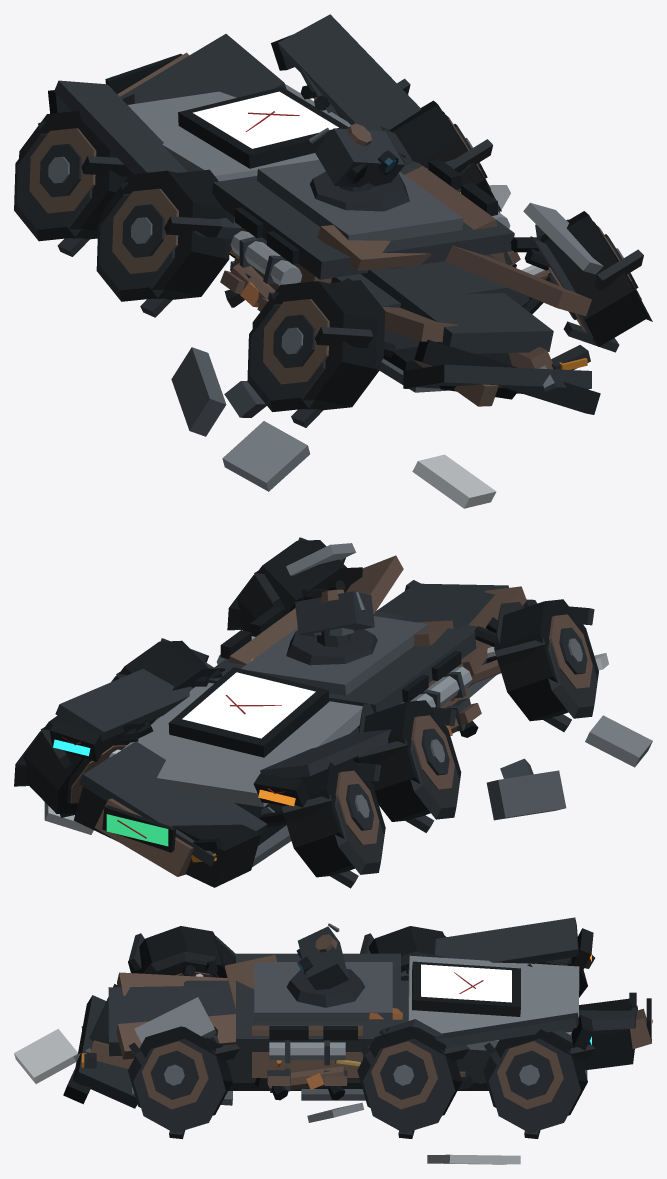
File: r47x_recon_rover_d3_lod1.meshopt.glb
The picture shows the model from 3 angles, top to bottom: view 1: azimuth 30°, elevation 25°; view 2: azimuth 150°, elevation 25°; view 3: azimuth 270°, elevation 25°; orthographic projection. The views are drawn at different scales.
Visible parts, largest first — view 1: CHASSIS_ARMOR_BODY, ZONE_FRONT_BUMPER, WHEEL_FL, WHEEL_ML, ZONE_FLANK_POS_X, WHEEL_RL, ZONE_FLANK_NEG_X, WHEEL_FR, ZONE_REAR_PANEL, WHEEL_MR, DISPLAY_FDAI_TELEMETRY_PANEL, SENSOR_MAST_HEAD (+5 smaller); view 2: CHASSIS_ARMOR_BODY, ZONE_REAR_PANEL, WHEEL_FL, WHEEL_ML, WHEEL_RL, ZONE_FLANK_POS_X, ZONE_FRONT_BUMPER, ZONE_FLANK_NEG_X, WHEEL_FR, DISPLAY_FDAI_TELEMETRY_PANEL, WHEEL_RR, SENSOR_MAST_HEAD (+7 smaller); view 3: CHASSIS_ARMOR_BODY, ZONE_FRONT_BUMPER, WHEEL_MR, WHEEL_FR, ZONE_FLANK_POS_X, WHEEL_RR, ZONE_FLANK_NEG_X, WHEEL_FL, ZONE_REAR_PANEL, DISPLAY_FDAI_TELEMETRY_PANEL, SENSOR_MAST_HEAD, DEBRIS_FRONT_BEAK (+6 smaller).
Boxes of the visible parts, x1,y1,x2,y2 form: CHASSIS_ARMOR_BODY: [128, 84, 529, 370]; ZONE_FRONT_BUMPER: [361, 202, 603, 414]; WHEEL_FL: [247, 280, 385, 427]; WHEEL_ML: [96, 169, 233, 317]; ZONE_FLANK_POS_X: [271, 14, 510, 263]; WHEEL_RL: [14, 109, 132, 256]; ZONE_FLANK_NEG_X: [48, 80, 331, 307]; WHEEL_FR: [530, 211, 652, 352]; ZONE_REAR_PANEL: [105, 34, 286, 104]; WHEEL_MR: [380, 100, 501, 211]; DISPLAY_FDAI_TELEMETRY_PANEL: [193, 91, 338, 148]; SENSOR_MAST_HEAD: [309, 123, 404, 191]; CHASSIS_ARMOR_BODY: [121, 611, 487, 845]; ZONE_REAR_PANEL: [73, 741, 291, 887]; WHEEL_FL: [494, 599, 598, 731]; WHEEL_ML: [358, 700, 461, 832]; WHEEL_RL: [281, 758, 385, 888]; ZONE_FLANK_POS_X: [49, 606, 297, 761]; ZONE_FRONT_BUMPER: [286, 543, 537, 697]; ZONE_FLANK_NEG_X: [253, 650, 472, 807]; WHEEL_FR: [227, 537, 362, 631]; DISPLAY_FDAI_TELEMETRY_PANEL: [182, 672, 315, 738]; WHEEL_RR: [14, 715, 145, 817]; SENSOR_MAST_HEAD: [295, 589, 374, 647]; CHASSIS_ARMOR_BODY: [184, 953, 579, 1100]; ZONE_FRONT_BUMPER: [63, 972, 235, 1108]; WHEEL_MR: [357, 1019, 469, 1138]; WHEEL_FR: [128, 1026, 239, 1139]; ZONE_FLANK_POS_X: [252, 1012, 593, 1092]; WHEEL_RR: [483, 1029, 595, 1138]; ZONE_FLANK_NEG_X: [368, 917, 593, 980]; WHEEL_FL: [128, 926, 235, 977]; ZONE_REAR_PANEL: [479, 992, 651, 1083]; DISPLAY_FDAI_TELEMETRY_PANEL: [421, 964, 511, 1002]; SENSOR_MAST_HEAD: [296, 923, 348, 989]; DEBRIS_FRONT_BEAK: [14, 1028, 77, 1083].
Bounding box in the file's own units: 3.35 × 1.59 × 5.18.
